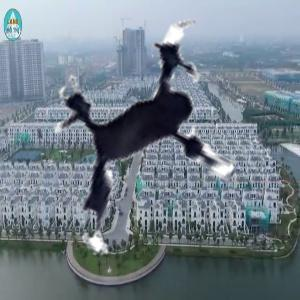drone: (16, 2, 300, 287)
